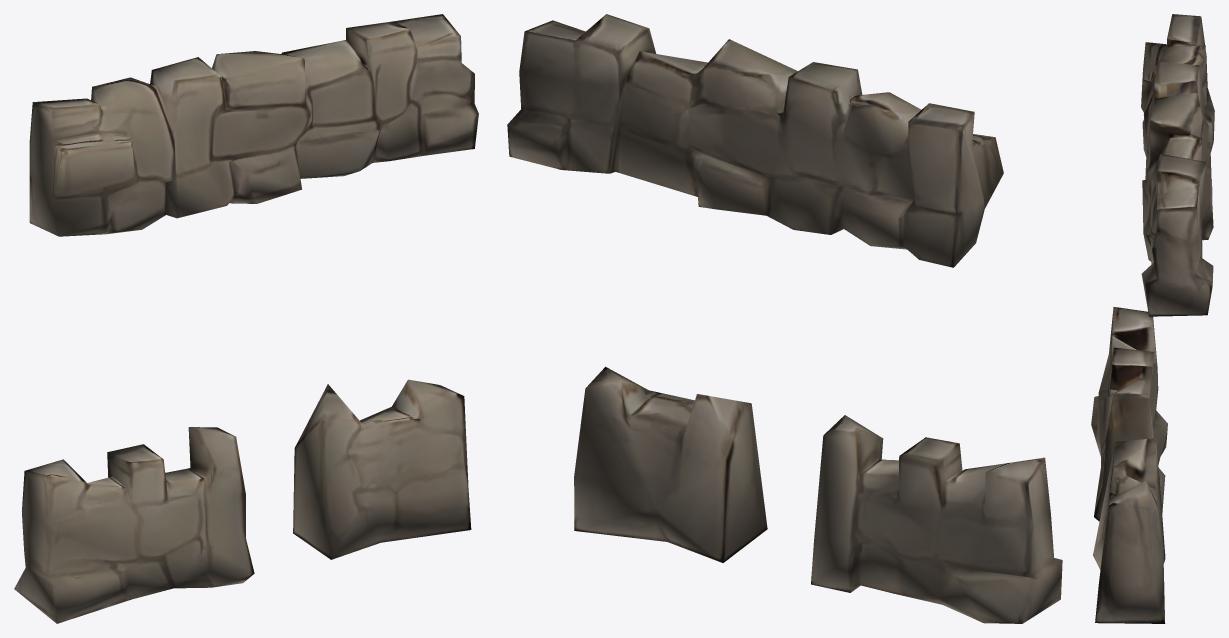
Rendered from Walls.glb.
The picture shows the model from 3 angles, left to right: view 1: azimuth 30°, elevation 25°; view 2: azimuth 150°, elevation 25°; view 3: azimuth 270°, elevation 25°; orthographic projection. The views are drawn at different scales.
Parts seen in each view (by area): view 1: tripo_node_9af1576d-a15d-460c-a183-ddaa21d5440b; view 2: tripo_node_9af1576d-a15d-460c-a183-ddaa21d5440b; view 3: tripo_node_9af1576d-a15d-460c-a183-ddaa21d5440b.
Boxes of the visible parts, box(x1,y1,x2,y2) form: tripo_node_9af1576d-a15d-460c-a183-ddaa21d5440b: box(14, 14, 478, 623); tripo_node_9af1576d-a15d-460c-a183-ddaa21d5440b: box(507, 14, 1062, 623); tripo_node_9af1576d-a15d-460c-a183-ddaa21d5440b: box(1091, 14, 1214, 623).
Size of the model in its own units: 0.9566 by 0.9784 by 0.2449.
Materials: 1 (1 with a texture image).
